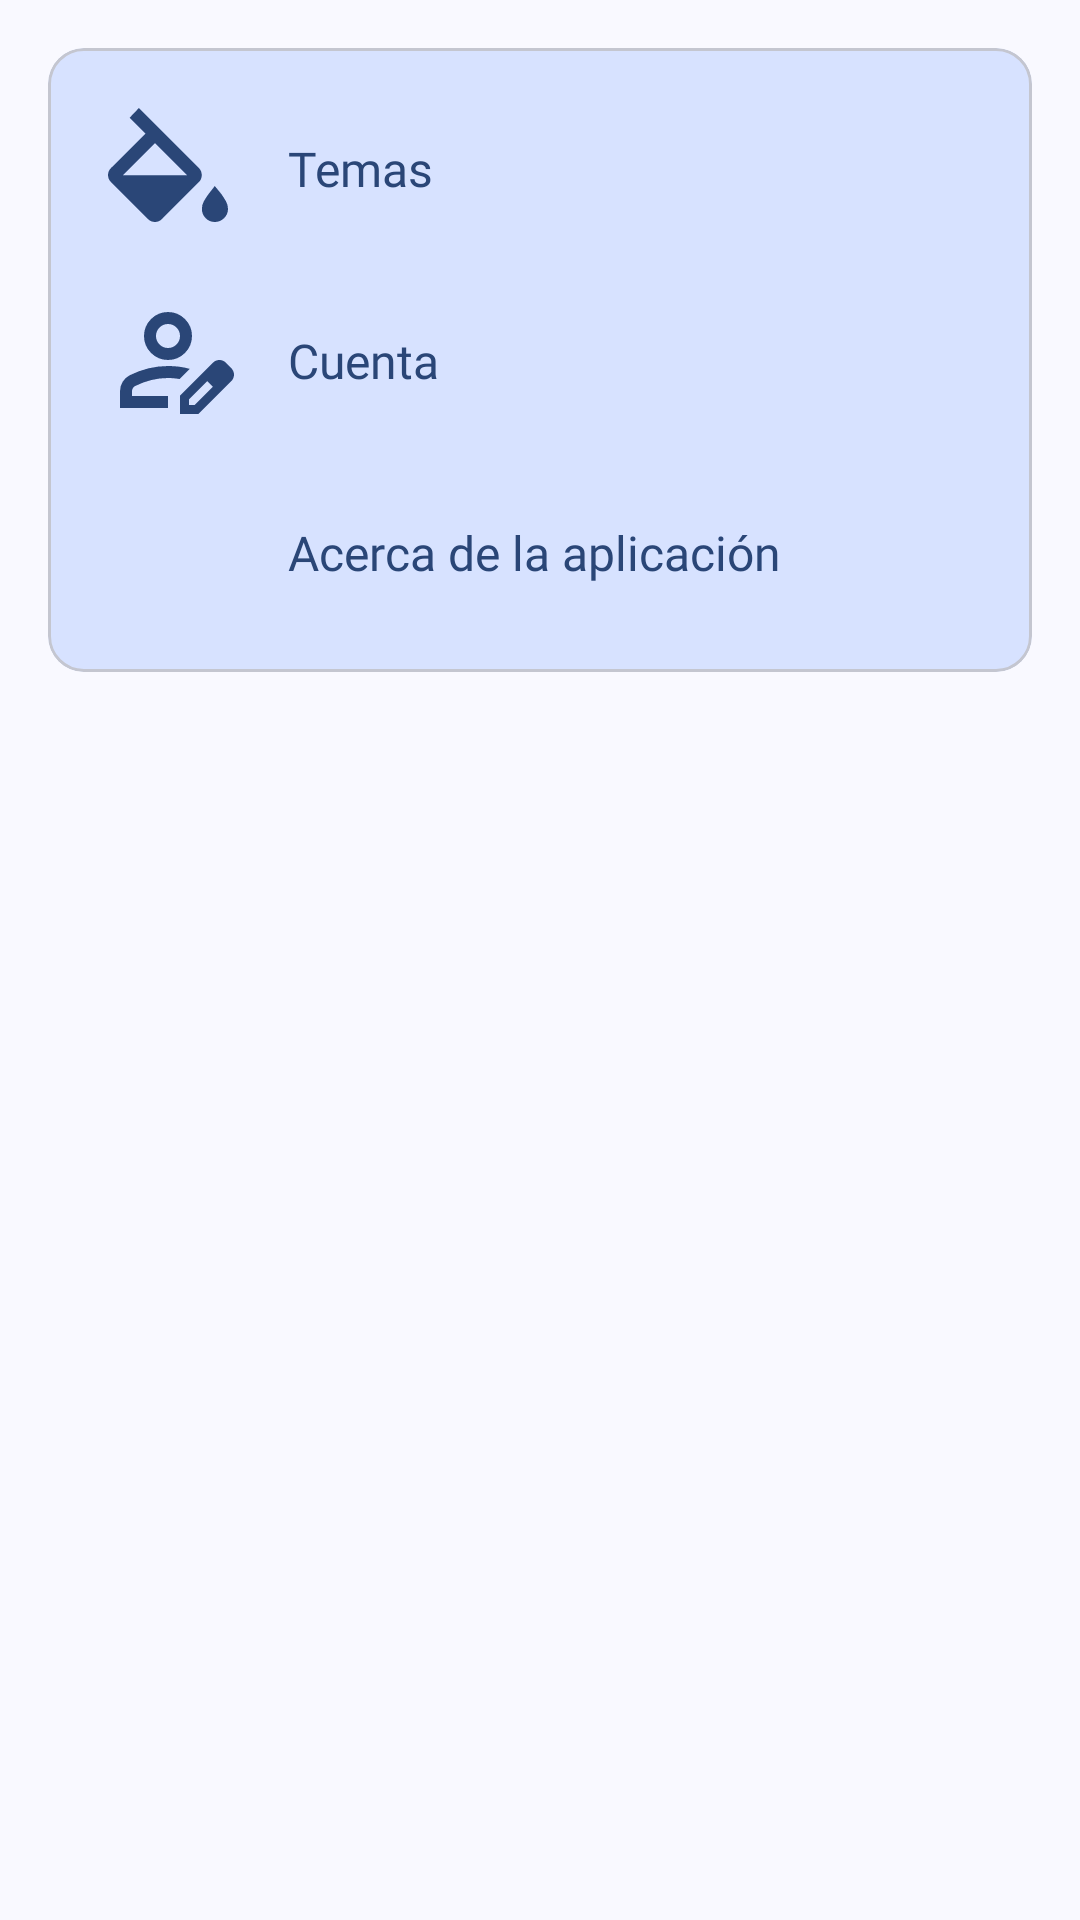

Where icons sit on this 1080px x 1920px app screen, as (x1, y1, x2, y2):
colors: (108, 108, 228, 222)
person edit: (120, 312, 234, 414)
